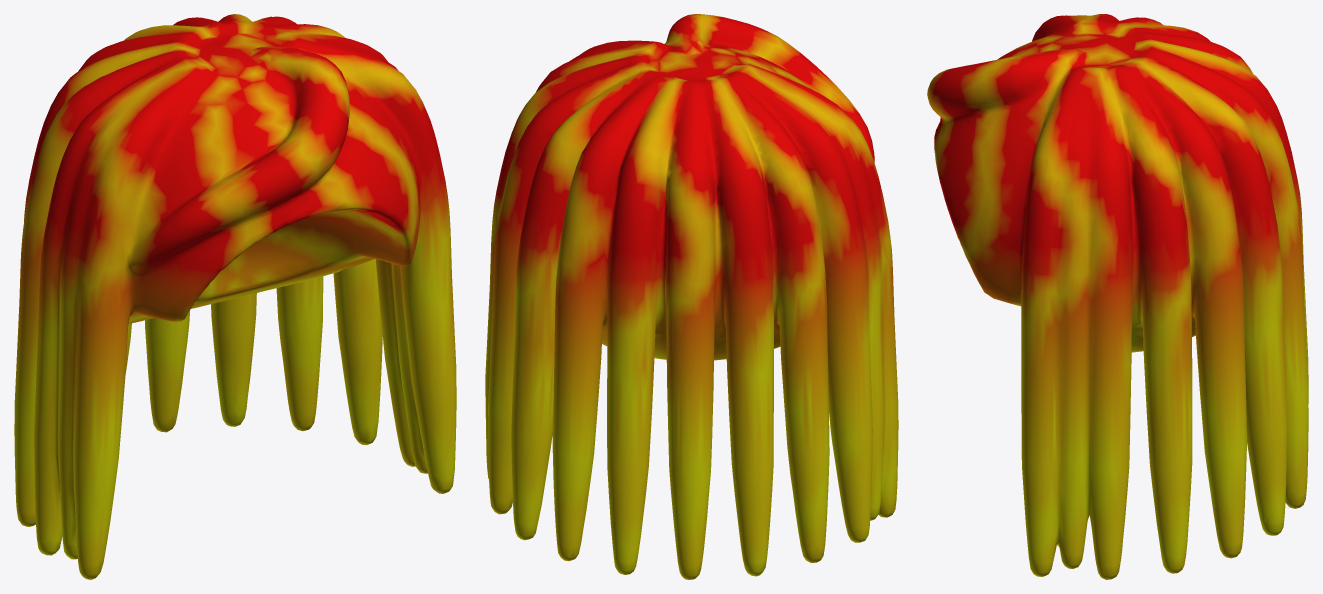
File: side-swept.glb
3 views of the same model, side by side, from view 1: azimuth 30°, elevation 25°; view 2: azimuth 150°, elevation 25°; view 3: azimuth 270°, elevation 25° (orthographic). The views are drawn at different scales.
Parts seen in each view (by area): view 1: part; view 2: part; view 3: part.
Boxes of the visible parts, x1,y1,x2,y2 form: part: (14, 14, 456, 579); part: (485, 14, 898, 579); part: (927, 14, 1308, 579).
Bounding box in the file's own units: 2.71 × 3.16 × 2.39.
